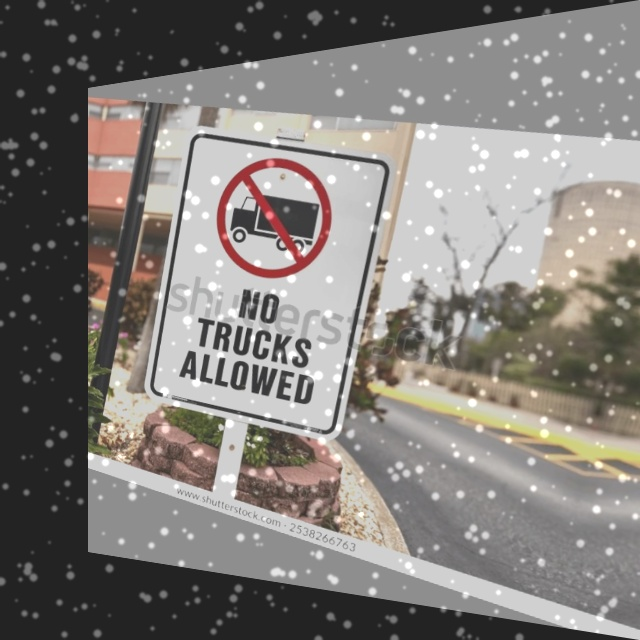Truck_Prohibited: (201, 130, 358, 298)
